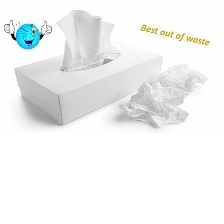book: (8, 41, 168, 129)
tissue: (112, 57, 211, 131), (51, 4, 119, 75)
